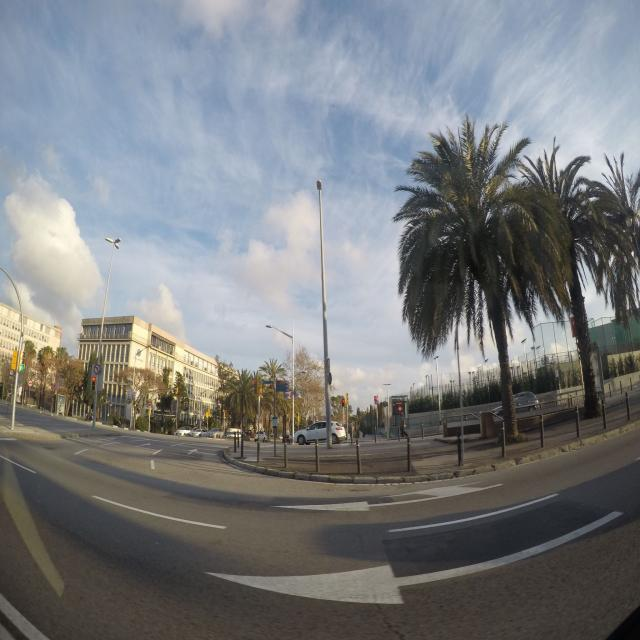forb_stopping: (56, 384, 59, 389)
